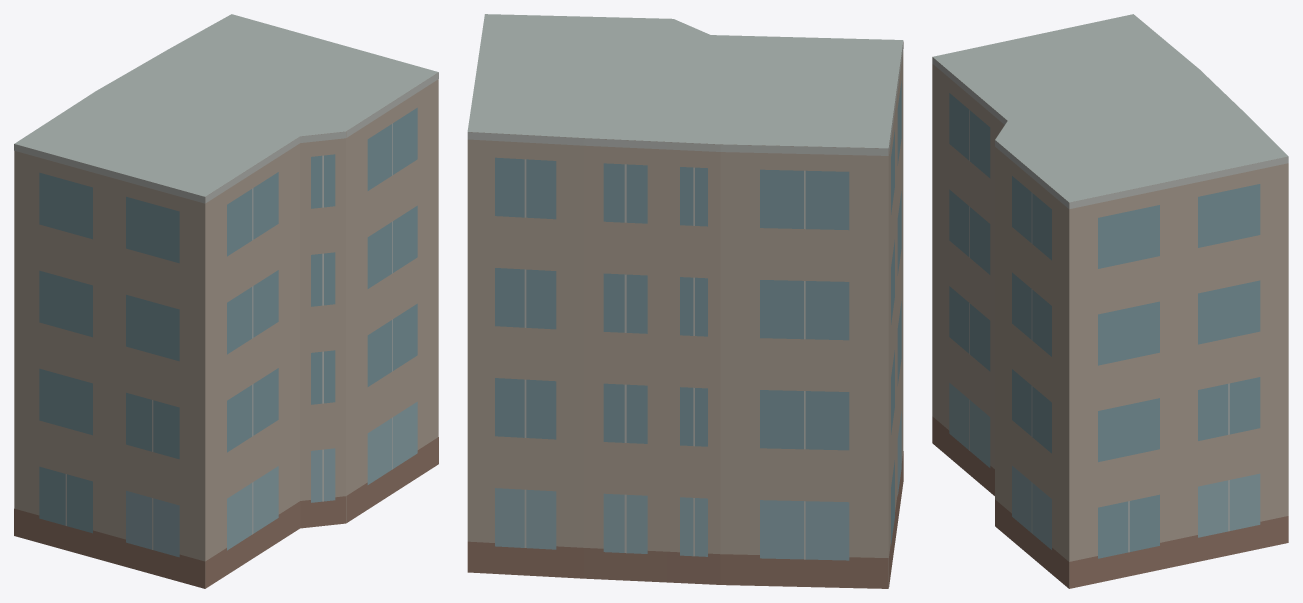
File: survey-upis-32503853.glb
3 views of the same model, side by side, from view 1: azimuth 30°, elevation 25°; view 2: azimuth 150°, elevation 25°; view 3: azimuth 270°, elevation 25° (orthographic). The views are drawn at different scales.
Visible parts, largest first — view 1: survey-upis-32503853.tmp; view 2: survey-upis-32503853.tmp; view 3: survey-upis-32503853.tmp.
Boxes of the visible parts, left/top/right/bottom form: survey-upis-32503853.tmp: left=14, top=14, right=438, bottom=588; survey-upis-32503853.tmp: left=467, top=14, right=903, bottom=588; survey-upis-32503853.tmp: left=932, top=14, right=1288, bottom=588.
Size of the model in its own units: 14.71 by 14.05 by 11.75.
